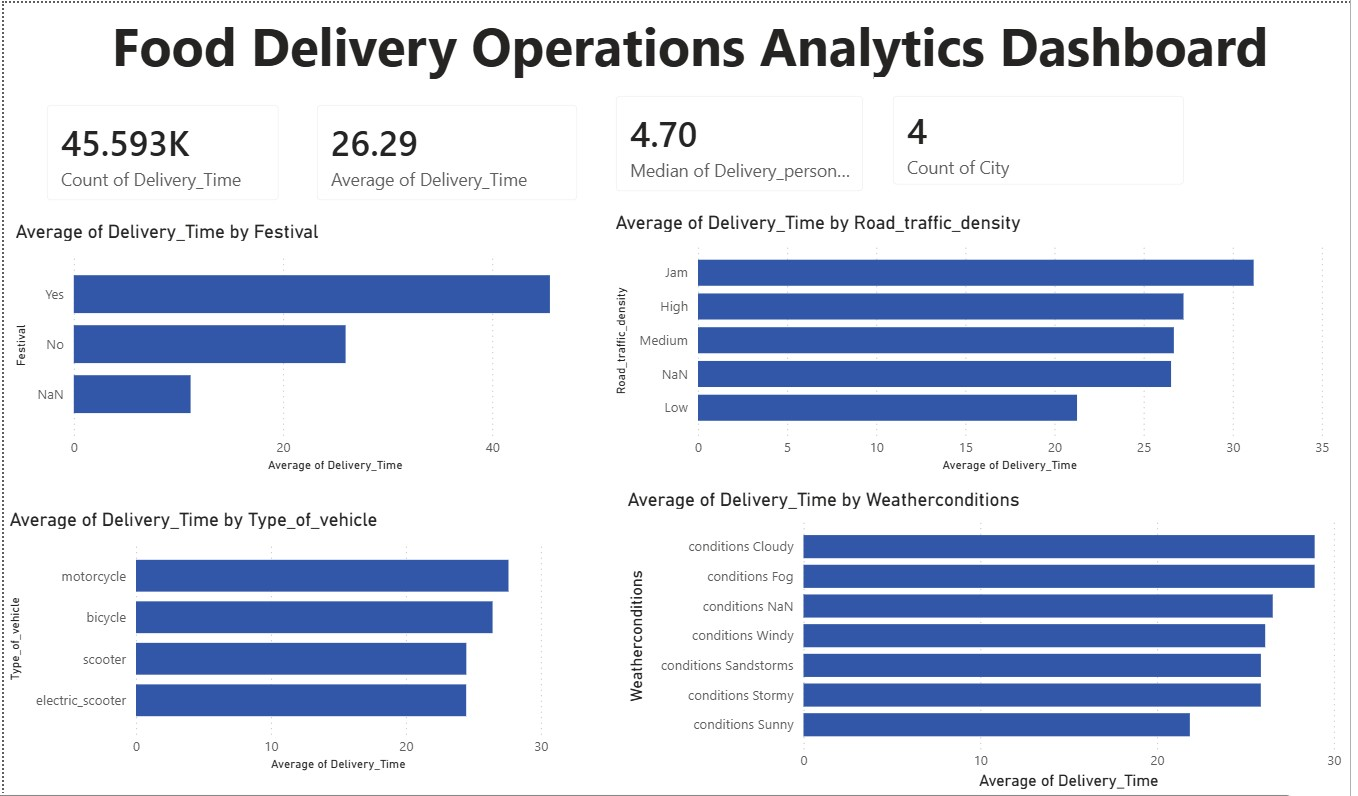

Layout of this report page (visuals, bound fields, positions):
{"tool":"powerbi","page":{"name":"Page 1","canvas":[1280,720],"ordinal":0},"visuals":[{"type":"cardVisual","fields":{"Data":["Avg(train.Delivery_Time)"]},"box":[267.3,75.5,271.8,121.8],"z":0},{"type":"clusteredBarChart","fields":{"Category":["train.Road_traffic_density"],"Y":["Avg(train.Delivery_Time)"]},"box":[550.9,189.1,659.1,241.8],"z":1000},{"type":"clusteredBarChart","fields":{"Category":["train.Weatherconditions"],"Y":["Avg(train.Delivery_Time)"]},"box":[561.8,440.9,659.1,279.1],"z":2000},{"type":"clusteredBarChart","fields":{"Category":["train.Festival"],"Y":["Avg(train.Delivery_Time)"]},"box":[5.5,197.3,545.5,233.6],"z":3000},{"type":"clusteredBarChart","fields":{"Category":["train.Type_of_vehicle"],"Y":["Avg(train.Delivery_Time)"]},"box":[0,459.1,500,243.6],"z":4000},{"type":"cardVisual","fields":{"Data":["CountNonNull(train.Delivery_Time)"]},"box":[21.4,75.7,245.7,121.4],"z":4001},{"type":"cardVisual","fields":{"Data":["Median(train.Delivery_person_Ratings)"]},"box":[539.1,67.3,259.1,121.8],"z":4002},{"type":"textbox","box":[0,0,1247.3,75.5],"z":4003},{"type":"cardVisual","fields":{"Data":["Count(train.City)"]},"box":[790.9,67.3,299.1,115.5],"z":4004}]}

Visuals, with their boxes on the page's 1280x720 design canvas (x1, y1, x2, y2). These are canvas units, not pixel positions in the 1358x796 screenshot, which may show the page scaled, cropped or inside an application window:
cardVisual - Avg(train.Delivery_Time): (267, 76, 539, 197)
clusteredBarChart - train.Road_traffic_density x Avg(train.Delivery_Time): (551, 189, 1210, 431)
clusteredBarChart - train.Weatherconditions x Avg(train.Delivery_Time): (562, 441, 1221, 720)
clusteredBarChart - train.Festival x Avg(train.Delivery_Time): (6, 197, 551, 431)
clusteredBarChart - train.Type_of_vehicle x Avg(train.Delivery_Time): (0, 459, 500, 703)
cardVisual - CountNonNull(train.Delivery_Time): (21, 76, 267, 197)
cardVisual - Median(train.Delivery_person_Ratings): (539, 67, 798, 189)
textbox: (0, 0, 1247, 76)
cardVisual - Count(train.City): (791, 67, 1090, 183)
